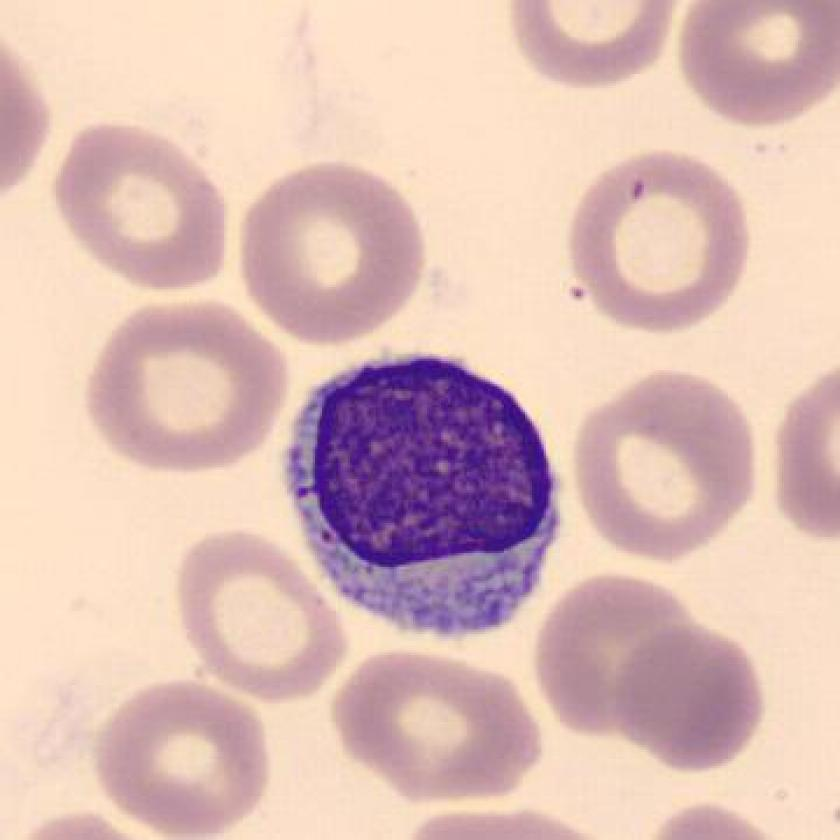lymphocyte: (269, 337, 582, 658)
